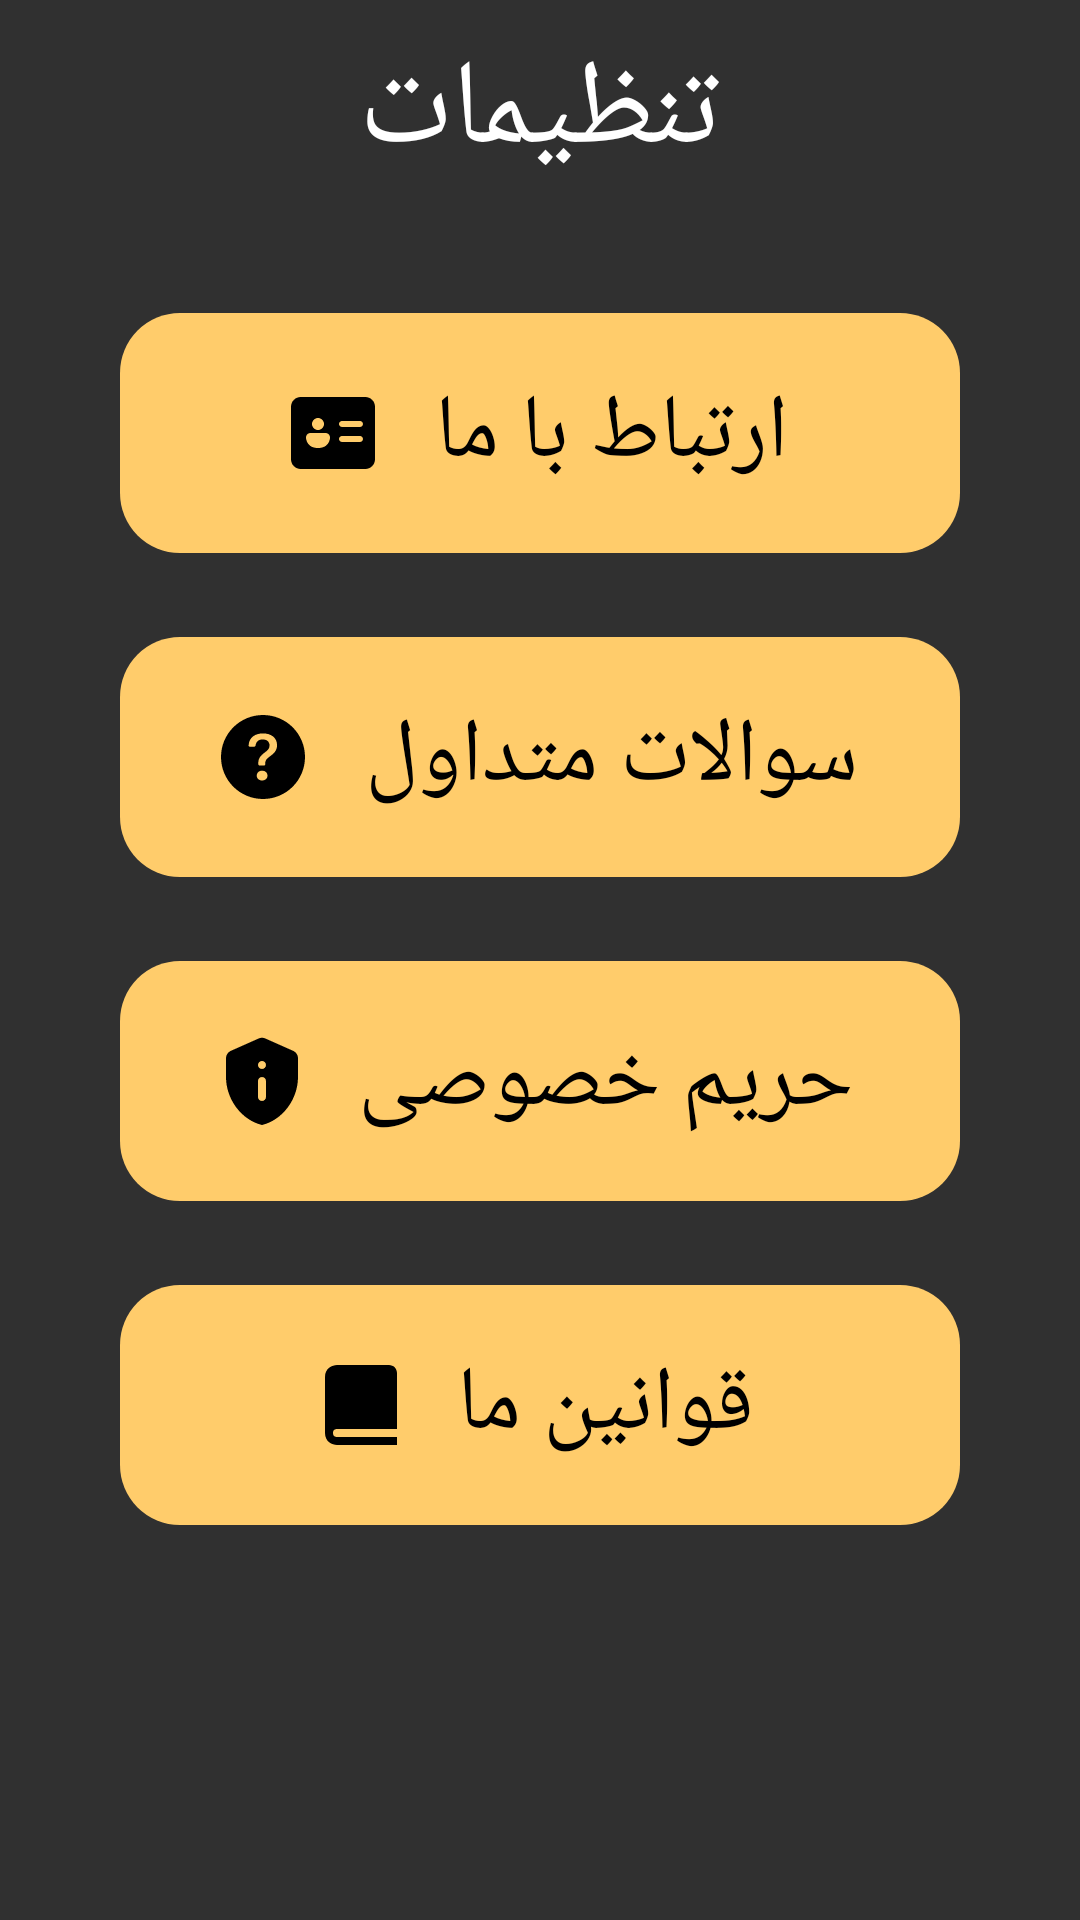

Point at icon controls on the screen. Image size 1080 x 1920, points as (x,y).
ertebat: (333,433)
ghavanin: (361,1405)
harim: (262,1081)
soalat: (263,757)
